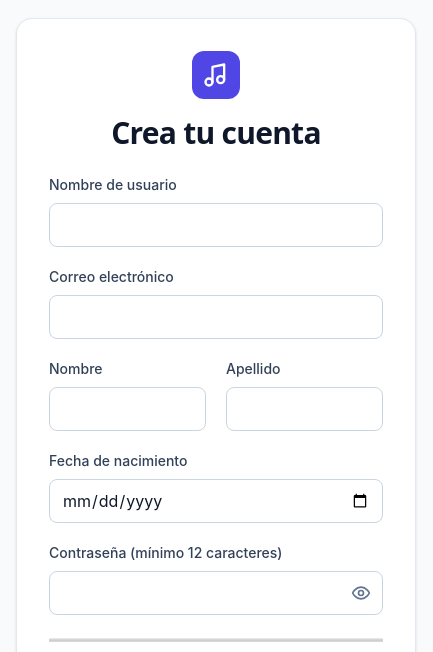
Test: TEST-FE-AUTH › AUTH-008 informa duplicados de registro sin exponer detalles internos
In the field labelled "Nombre": coordinates (128, 409) [49,387,206,431], type "Ana"
In the field labelled "Apellido": coordinates (304, 409) [226,387,383,431], type "Garcia"
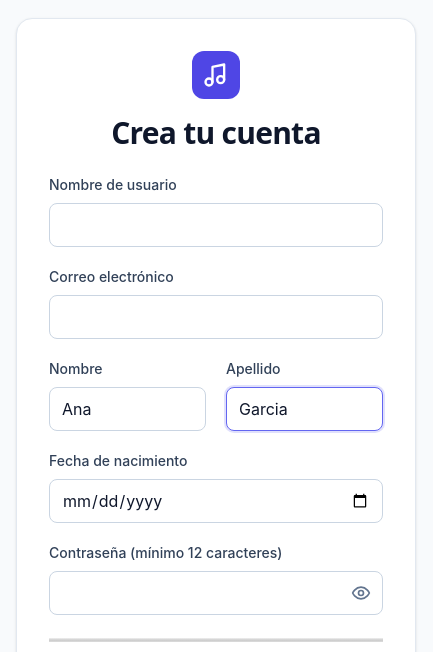
In the field labelled "Nombre de usuario": coordinates (216, 225) [49,203,383,247], type "ana"
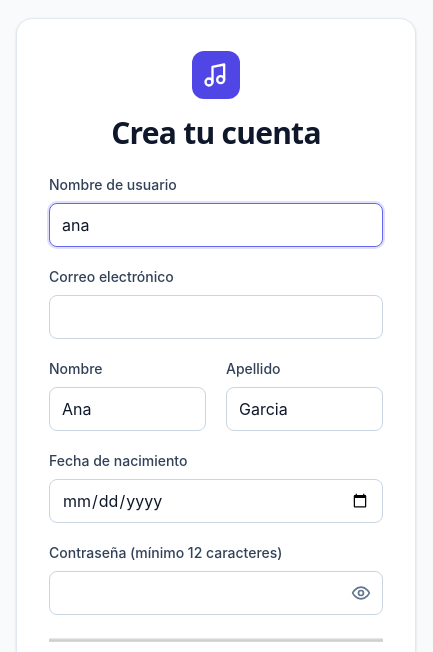
In the field labelled "Correo electrónico": coordinates (216, 317) [49,295,383,339], type "ana@example.com"
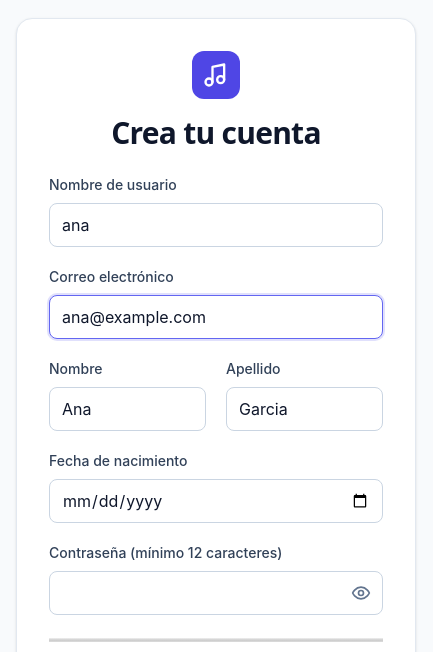
In the date field labelled "Fecha de nacimiento": coordinates (216, 501) [49,479,383,523], type "2000-01-01"
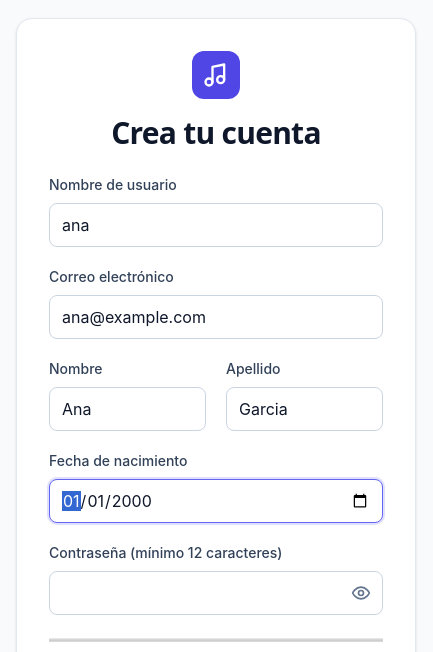
In the password field labelled "Contraseña (mínimo 12 caracteres)": coordinates (216, 593) [49,571,383,615], type "contraseña-segura-123"
(page scrolled)
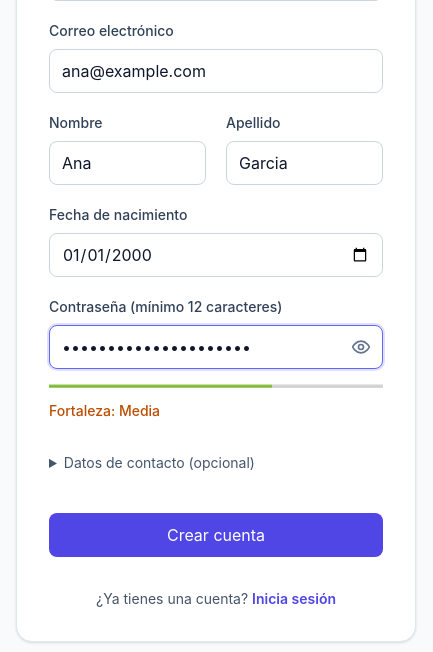
Click the button "Crear cuenta": coordinates (216, 535) [49,513,383,557]
(page scrolled)
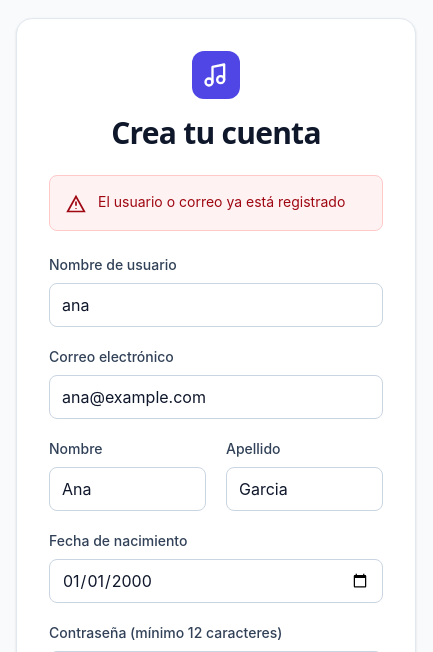
Check: the message reads "El usuario o correo ya está registrado", box [98,193,345,210]
